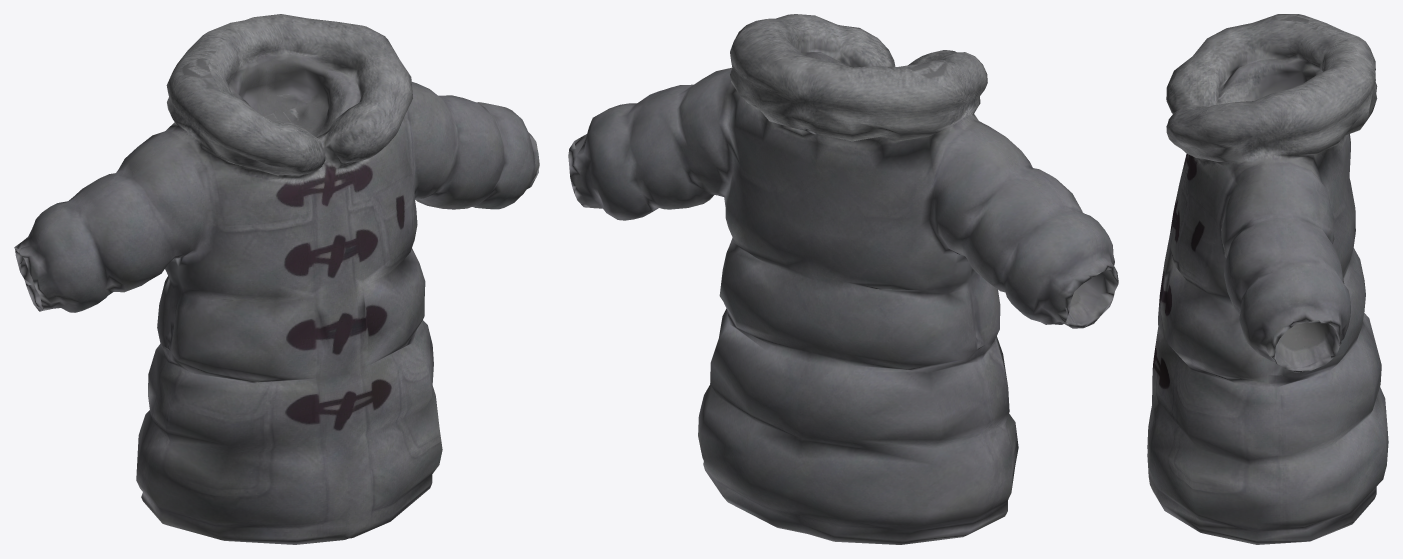
File: Parka.glb
The picture shows the model from 3 angles, left to right: view 1: azimuth 30°, elevation 25°; view 2: azimuth 150°, elevation 25°; view 3: azimuth 270°, elevation 25°; orthographic projection. The views are drawn at different scales.
Visible parts, largest first — view 1: Parka; view 2: Parka; view 3: Parka.
Boxes of the visible parts, x1,y1,x2,y2 form: Parka: (14,14,539,544); Parka: (568,14,1118,544); Parka: (1147,14,1388,544).
Bounding box in the file's own units: 16.82 × 14.12 × 6.99.
Materials: 1 (1 with a texture image).
